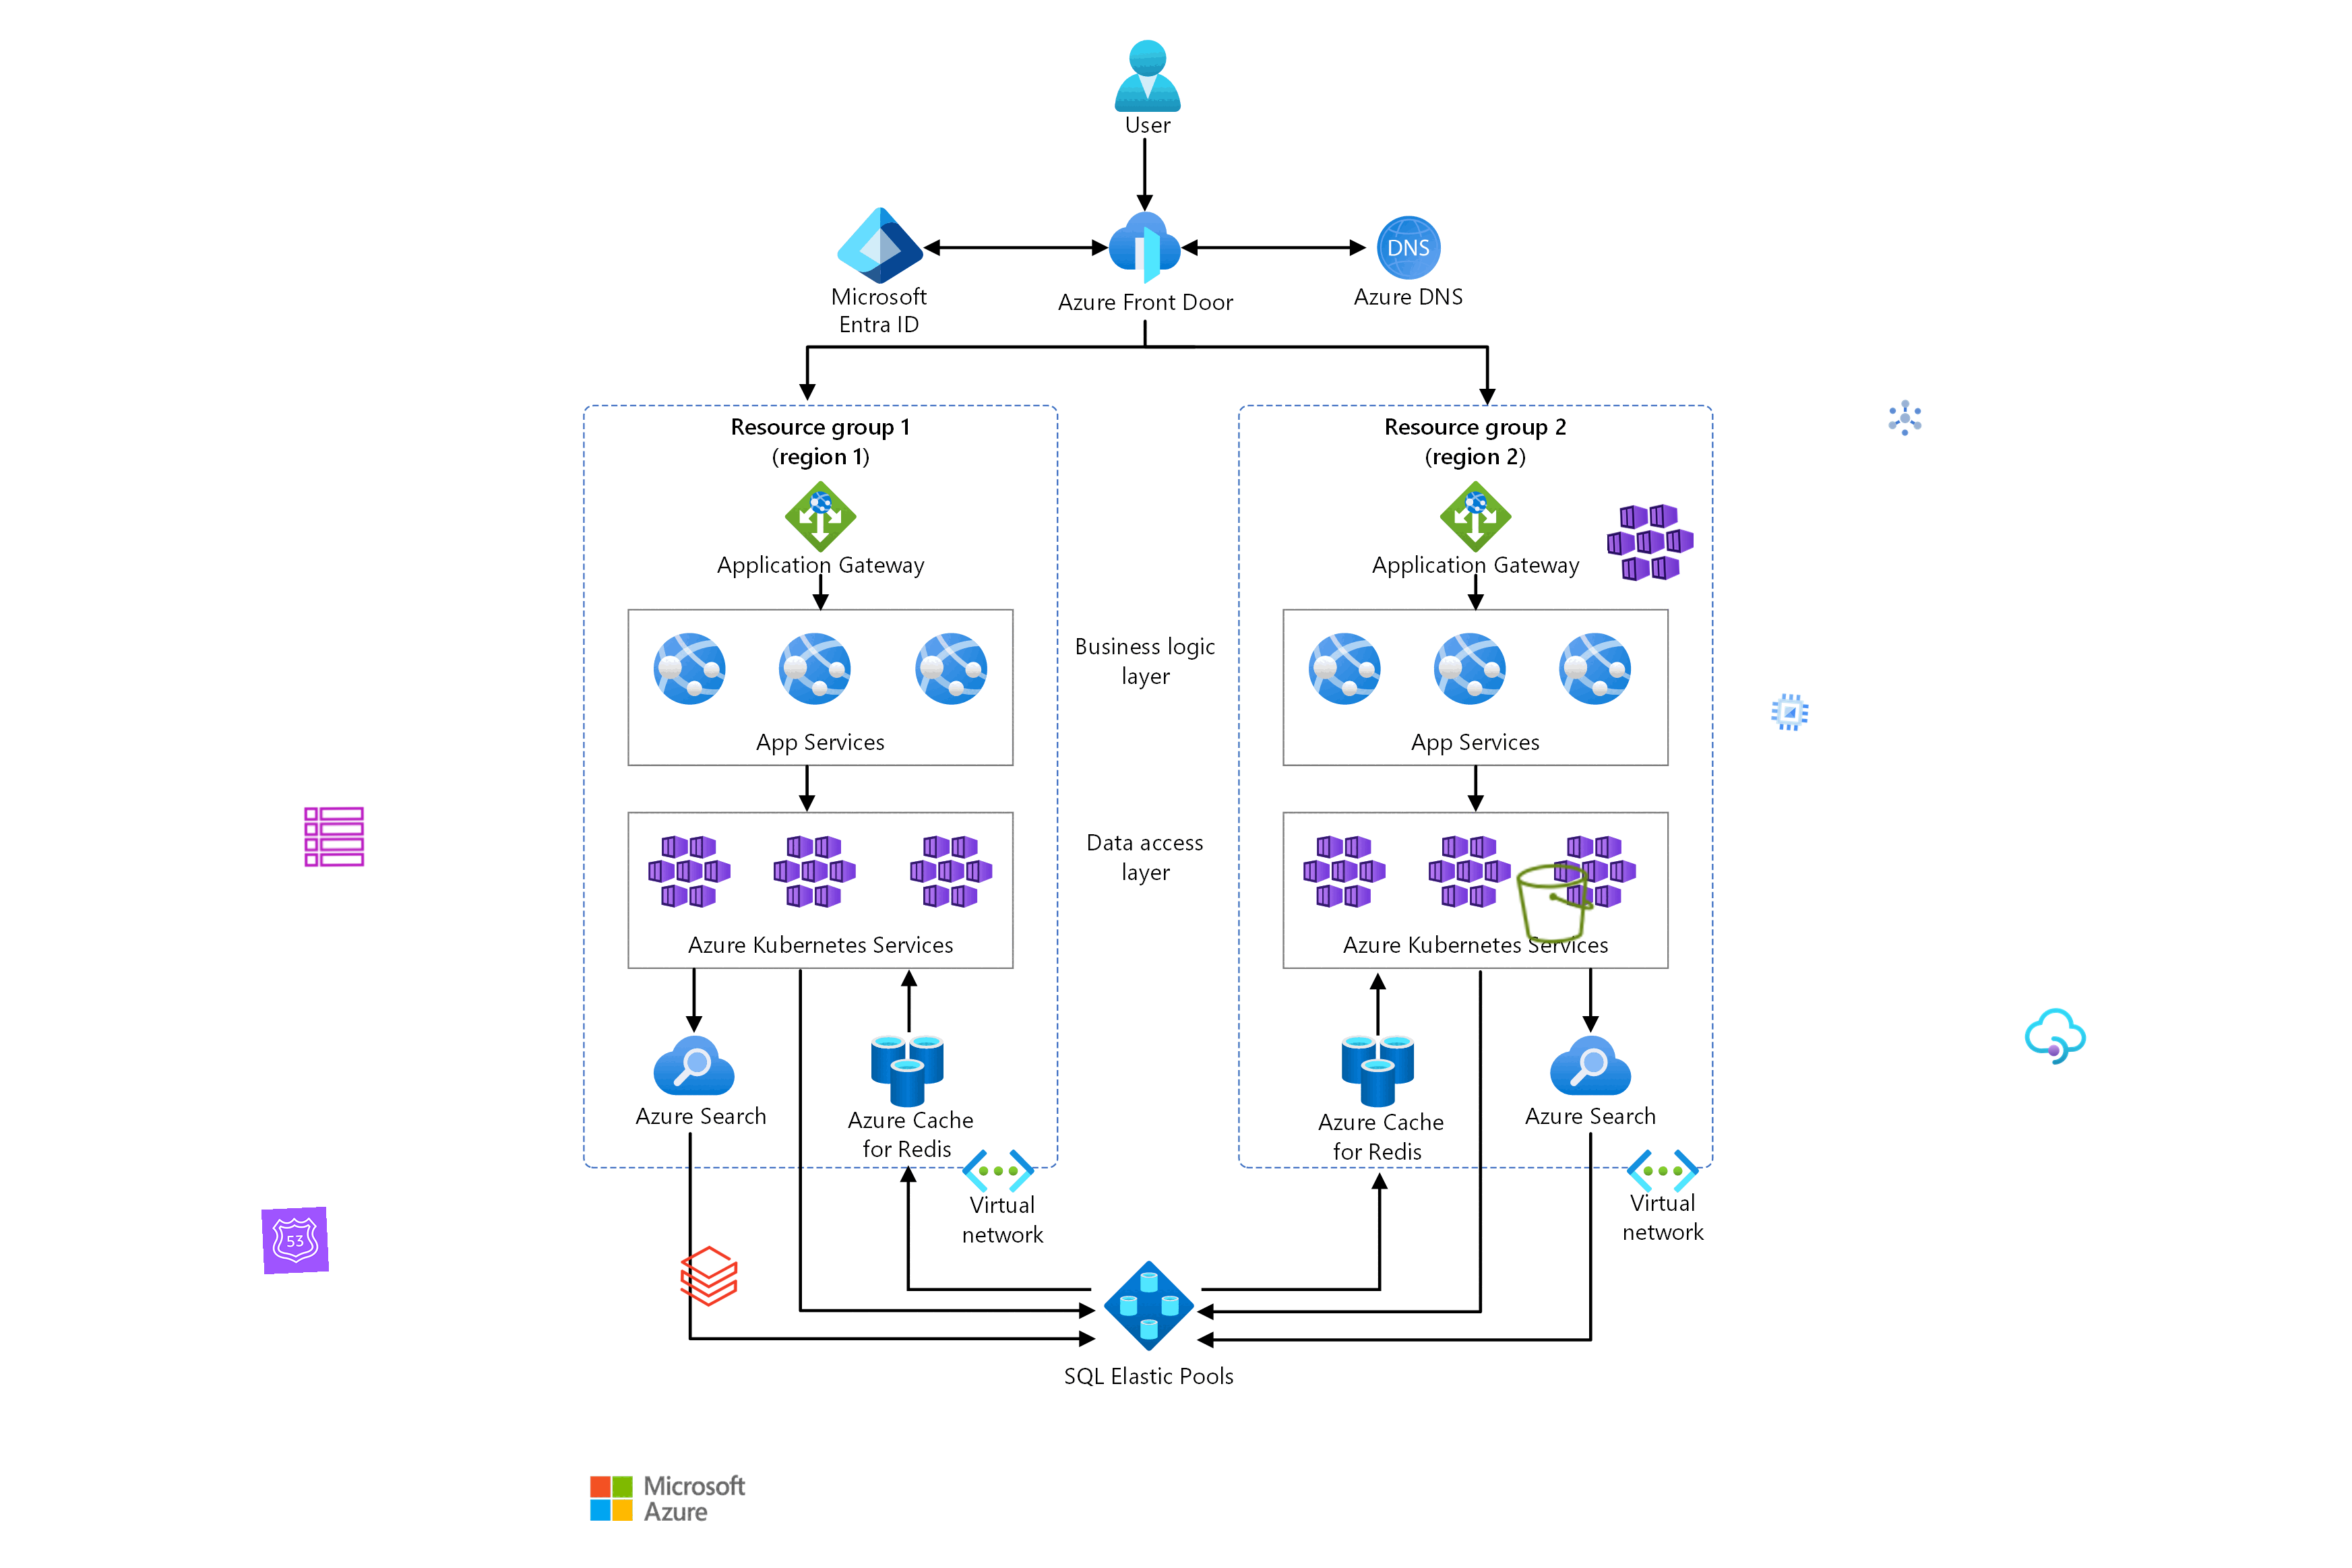aws_amazon_route_53: (261, 1206, 329, 1276)
aws_dynamodb_table: (301, 803, 367, 870)
aws_simple_storage_service_bucket: (1510, 859, 1601, 948)
azure_api_management_services: (2021, 1003, 2089, 1071)
azure_databricks: (675, 1243, 742, 1309)
azure_kubernetes_services: (1605, 497, 1696, 586)
gcp_compute_engine: (1766, 689, 1813, 735)
gcp_pubsub: (1883, 395, 1927, 439)
